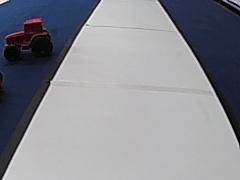Tracktor: (3, 15, 53, 60)
